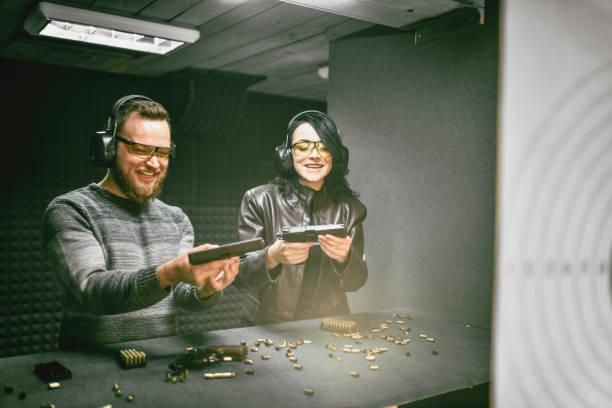gun: (167, 346, 250, 374), (188, 237, 266, 265), (279, 223, 347, 244)
